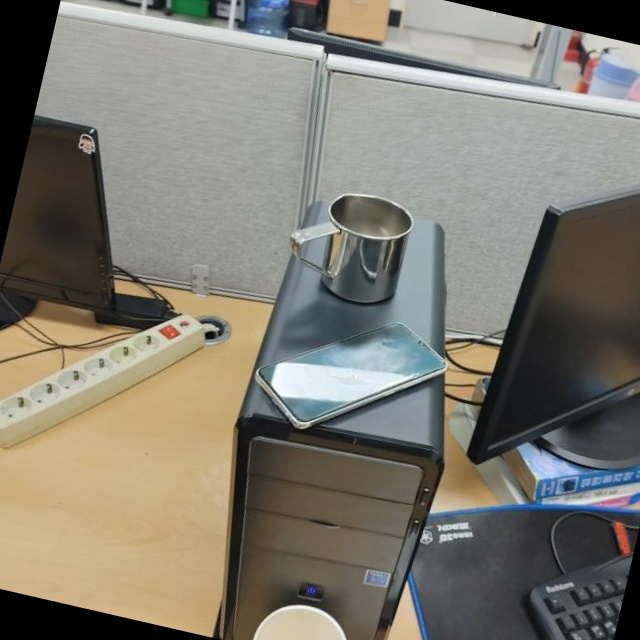cup: (278, 178, 418, 313)
phone: (244, 290, 457, 459)
